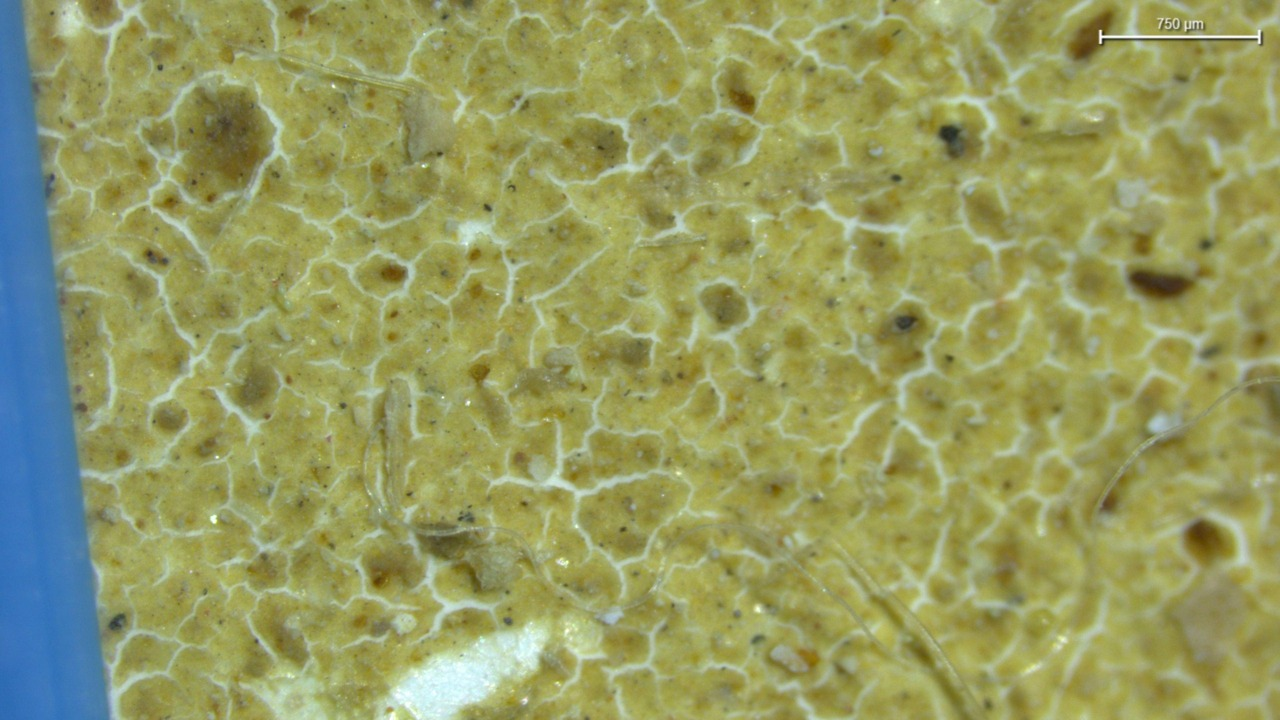microplastic_fragment: (402, 91, 456, 161), (462, 541, 526, 590)
